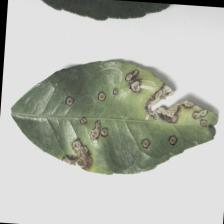canker: (46, 68, 212, 174)
